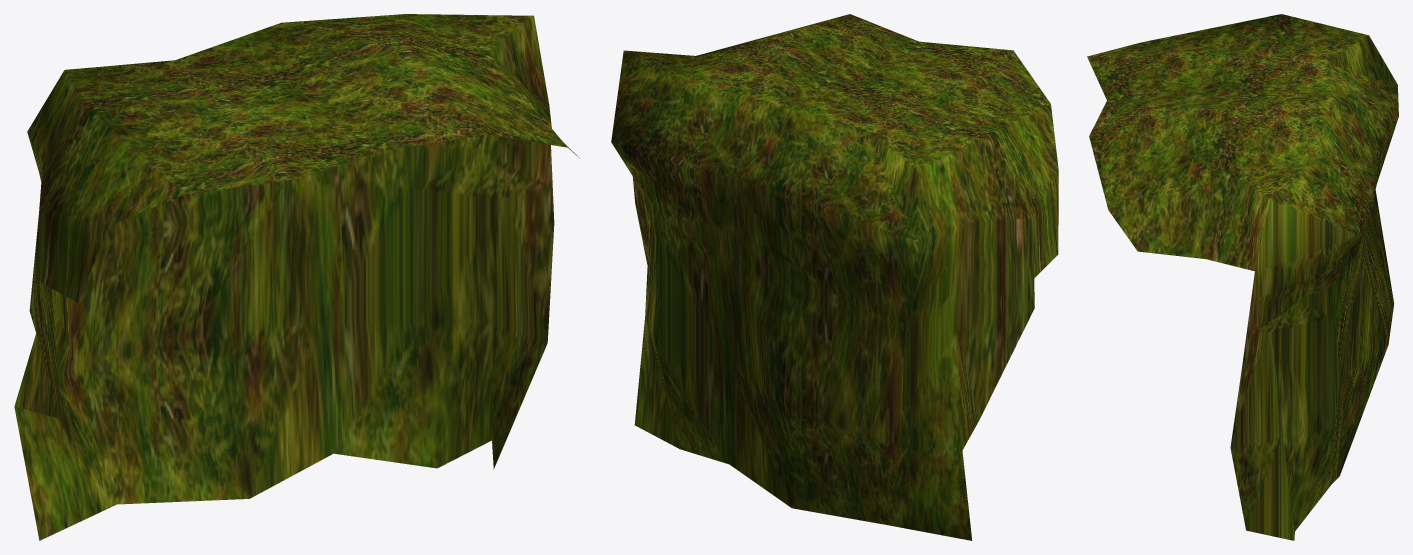
Rendered from TROLLHOLE02_RM_PSURF98.fbx.
The picture shows the model from 3 angles, left to right: view 1: azimuth 30°, elevation 25°; view 2: azimuth 150°, elevation 25°; view 3: azimuth 270°, elevation 25°; orthographic projection. The views are drawn at different scales.
Parts seen in each view (by area): view 1: TROLLHOLE02_RM_PSURF98; view 2: TROLLHOLE02_RM_PSURF98; view 3: TROLLHOLE02_RM_PSURF98.
Part boxes in pixels (<box>): TROLLHOLE02_RM_PSURF98: <box>14,14,579,540</box>; TROLLHOLE02_RM_PSURF98: <box>611,14,1058,540</box>; TROLLHOLE02_RM_PSURF98: <box>1087,14,1398,540</box>.
Size of the model in its own units: 73295 by 67914 by 48072.
1 material, 1 textured.
